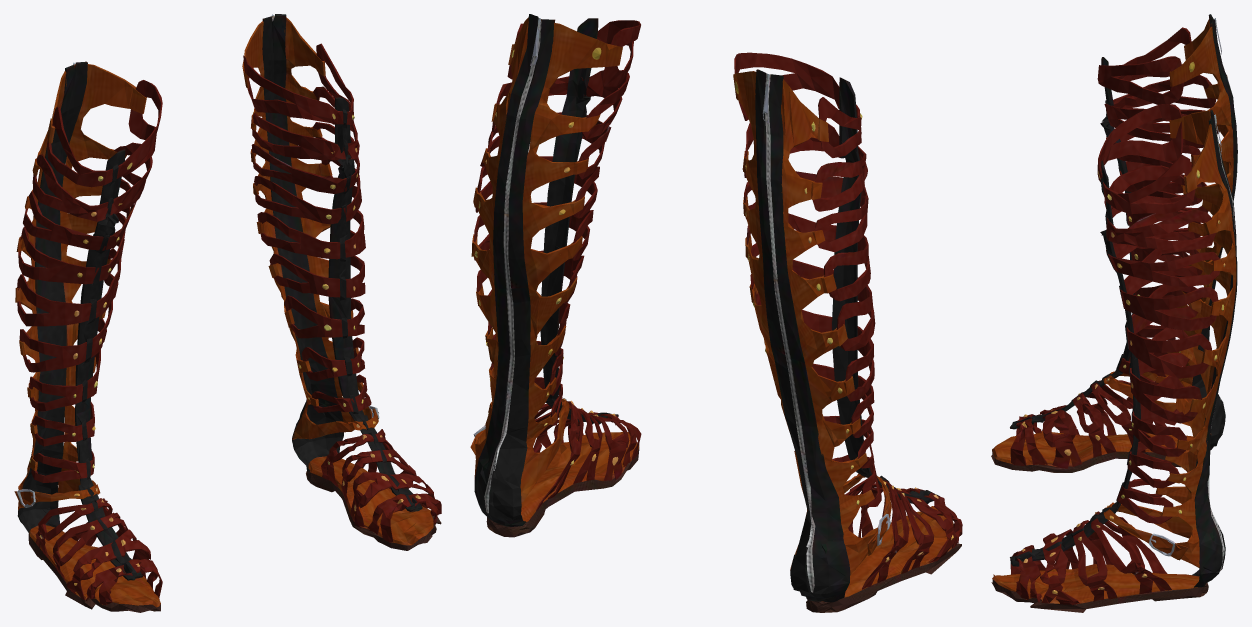
Rendered from mhw_elvs_caesar_sandals1.glb.
3 renders of one model, left to right at view 1: azimuth 30°, elevation 25°; view 2: azimuth 150°, elevation 25°; view 3: azimuth 270°, elevation 25°, orthographic. The views are drawn at different scales.
Parts seen in each view (by area): view 1: mhw_elvs_caesar_sandals1; view 2: mhw_elvs_caesar_sandals1; view 3: mhw_elvs_caesar_sandals1.
Part boxes in pixels (bbox=[...]): mhw_elvs_caesar_sandals1: bbox=[14, 14, 441, 612]; mhw_elvs_caesar_sandals1: bbox=[470, 14, 962, 612]; mhw_elvs_caesar_sandals1: bbox=[991, 14, 1237, 612].
Bounding box in the file's own units: 0.5471 × 0.6781 × 0.3282.
Materials: 1 (1 with a texture image).
